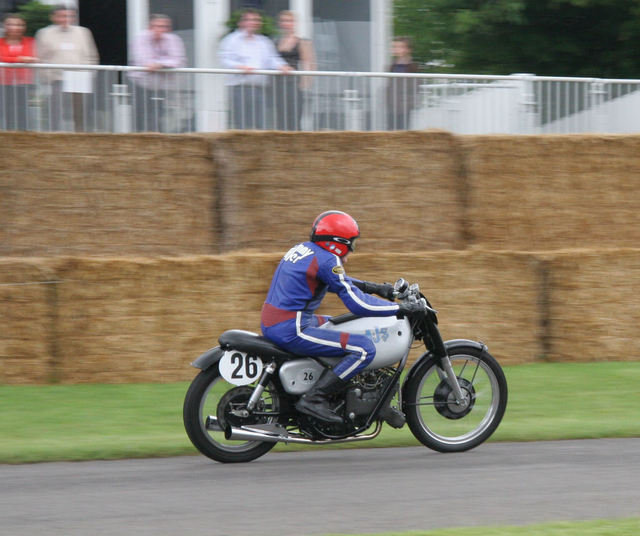helmet: (315, 207, 362, 256)
